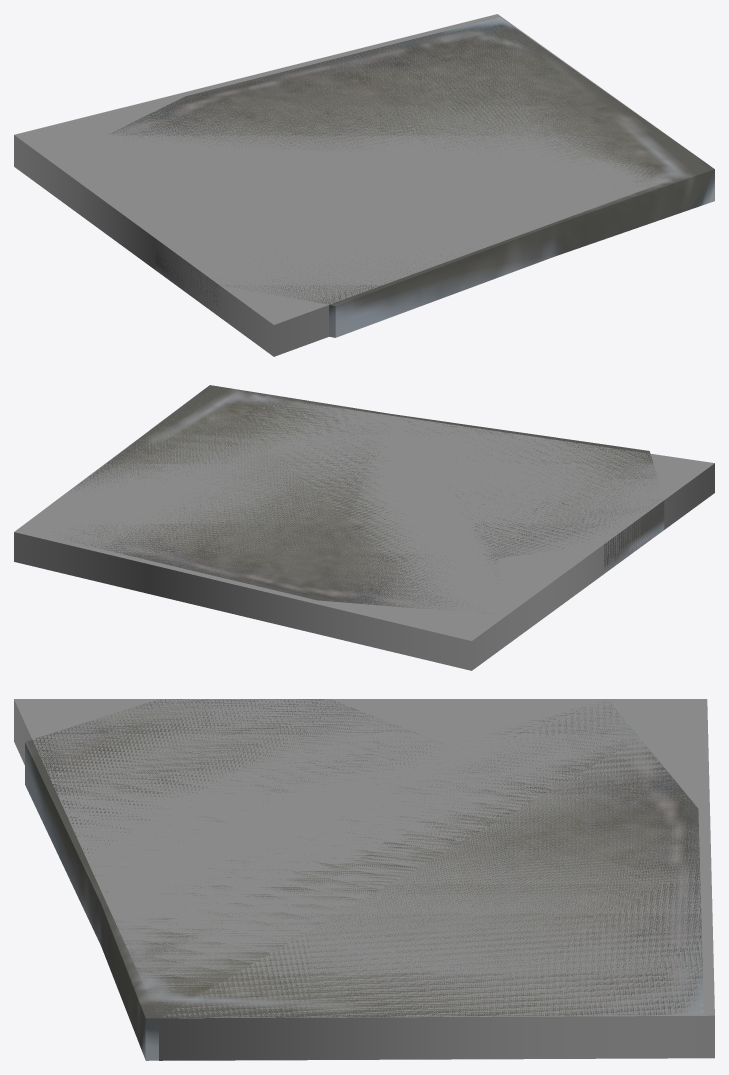
The model's file is Scene_Object_TianShan_DiMianzhuan_2.FBX.
3 views of the same model, one above another, from view 1: azimuth 30°, elevation 25°; view 2: azimuth 150°, elevation 25°; view 3: azimuth 270°, elevation 25° (orthographic). The views are drawn at different scales.
Parts seen in each view (by area): view 1: Scene_Object_TianShan_DiMianzhuan_2_Xzm, Scene_Object_TianShan_DiMianzhuan_2; view 2: Scene_Object_TianShan_DiMianzhuan_2_Xzm, Scene_Object_TianShan_DiMianzhuan_2; view 3: Scene_Object_TianShan_DiMianzhuan_2_Xzm, Scene_Object_TianShan_DiMianzhuan_2.
Part boxes in pixels (left/top/right/bottom): Scene_Object_TianShan_DiMianzhuan_2_Xzm: left=14, top=14, right=705, bottom=356; Scene_Object_TianShan_DiMianzhuan_2: left=108, top=17, right=714, bottom=337; Scene_Object_TianShan_DiMianzhuan_2_Xzm: left=14, top=392, right=714, bottom=670; Scene_Object_TianShan_DiMianzhuan_2: left=40, top=385, right=664, bottom=613; Scene_Object_TianShan_DiMianzhuan_2_Xzm: left=14, top=699, right=714, bottom=1060; Scene_Object_TianShan_DiMianzhuan_2: left=25, top=699, right=703, bottom=1060.
Size of the model in its own units: 69.14 by 4.29 by 64.17.
